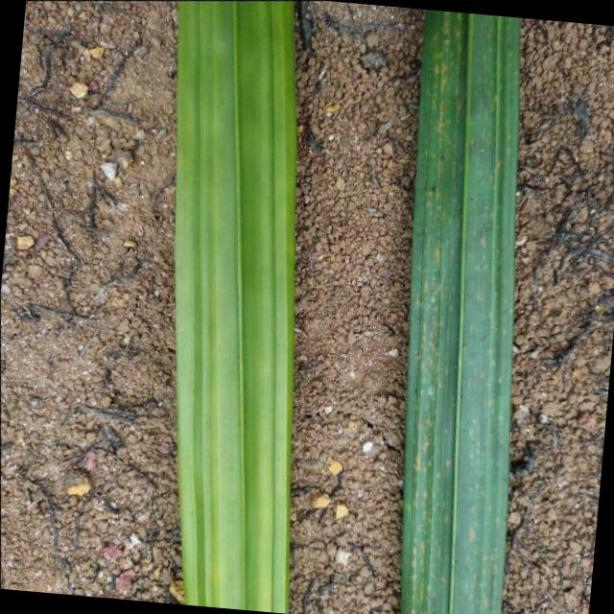nitrogen: (398, 0, 520, 614), (179, 0, 297, 614)
